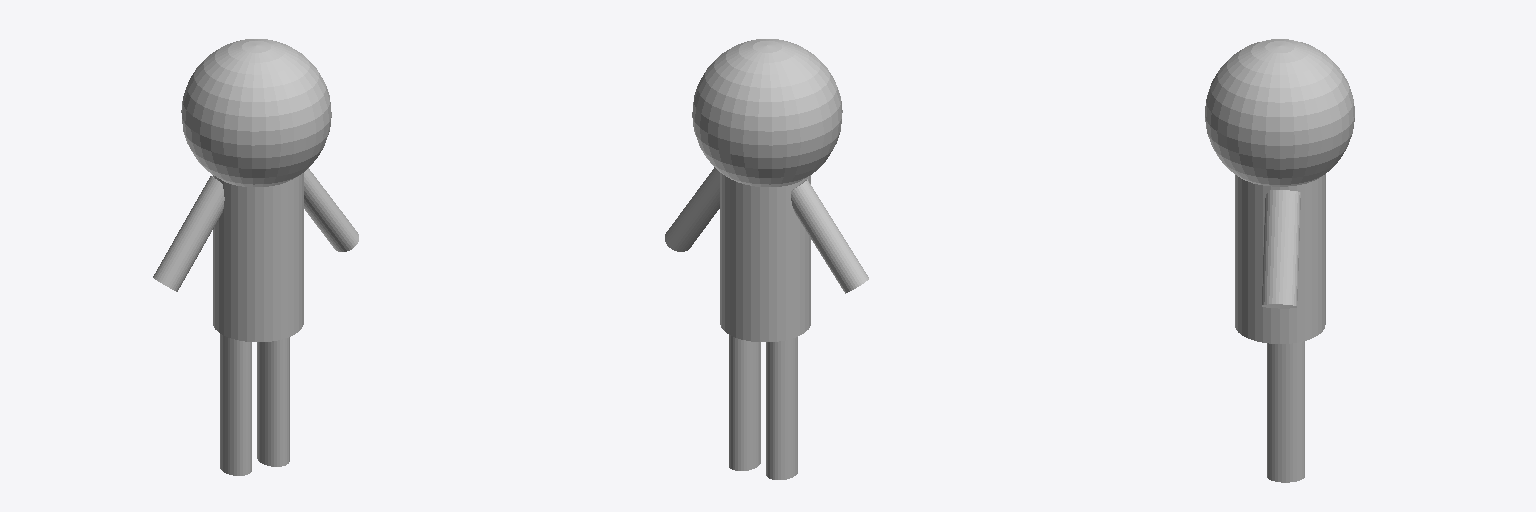
File: orig.obj
3 views of the same model, side by side, from view 1: azimuth 30°, elevation 25°; view 2: azimuth 150°, elevation 25°; view 3: azimuth 270°, elevation 25° (orthographic).
Parts seen in each view (by area): view 1: Cylinder.005_Cylinder.006; view 2: Cylinder.005_Cylinder.006; view 3: Cylinder.005_Cylinder.006.
Part boxes in pixels (x1,y1,x2,y2): Cylinder.005_Cylinder.006: (153,39,358,475); Cylinder.005_Cylinder.006: (665,39,868,479); Cylinder.005_Cylinder.006: (1205,39,1354,482).
Bounding box in the file's own units: 4.62 × 9.27 × 3.01.